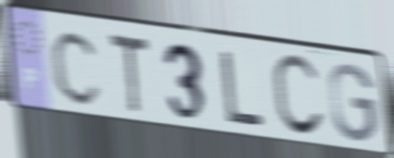3: (161, 39, 214, 126)
C: (269, 51, 328, 141), (49, 27, 105, 109)
G: (327, 61, 380, 145)
L: (218, 47, 268, 129)
T: (106, 29, 152, 119)
